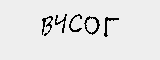В: (41, 14, 54, 36)
Г: (103, 17, 119, 37)
О: (83, 15, 99, 37)
С: (69, 13, 83, 32)
Ч: (54, 11, 69, 34)
